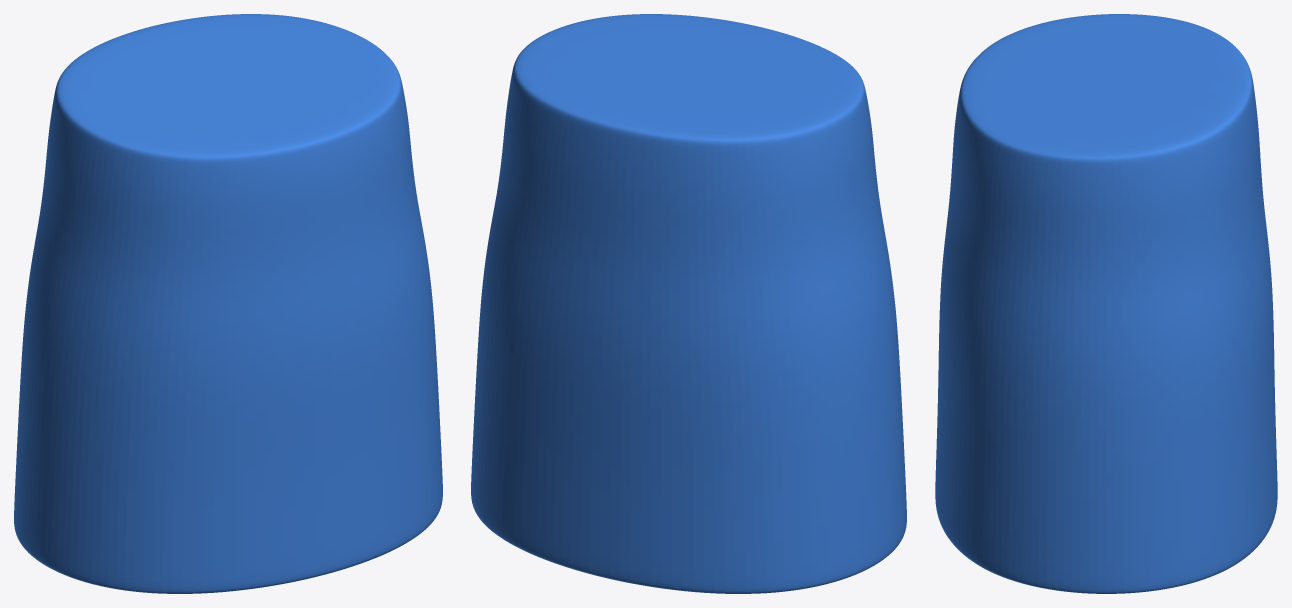
The model's file is CAMISETA_3_H.glb.
The picture shows the model from 3 angles, left to right: view 1: azimuth 30°, elevation 25°; view 2: azimuth 150°, elevation 25°; view 3: azimuth 270°, elevation 25°; orthographic projection. The views are drawn at different scales.
Visible parts, largest first — view 1: Cube.088; view 2: Cube.088; view 3: Cube.088.
Boxes of the visible parts, left/top/right/bottom form: Cube.088: left=14, top=14, right=442, bottom=593; Cube.088: left=471, top=14, right=906, bottom=593; Cube.088: left=935, top=14, right=1277, bottom=593.
Size of the model in its own units: 2.13 by 2.31 by 1.68.
